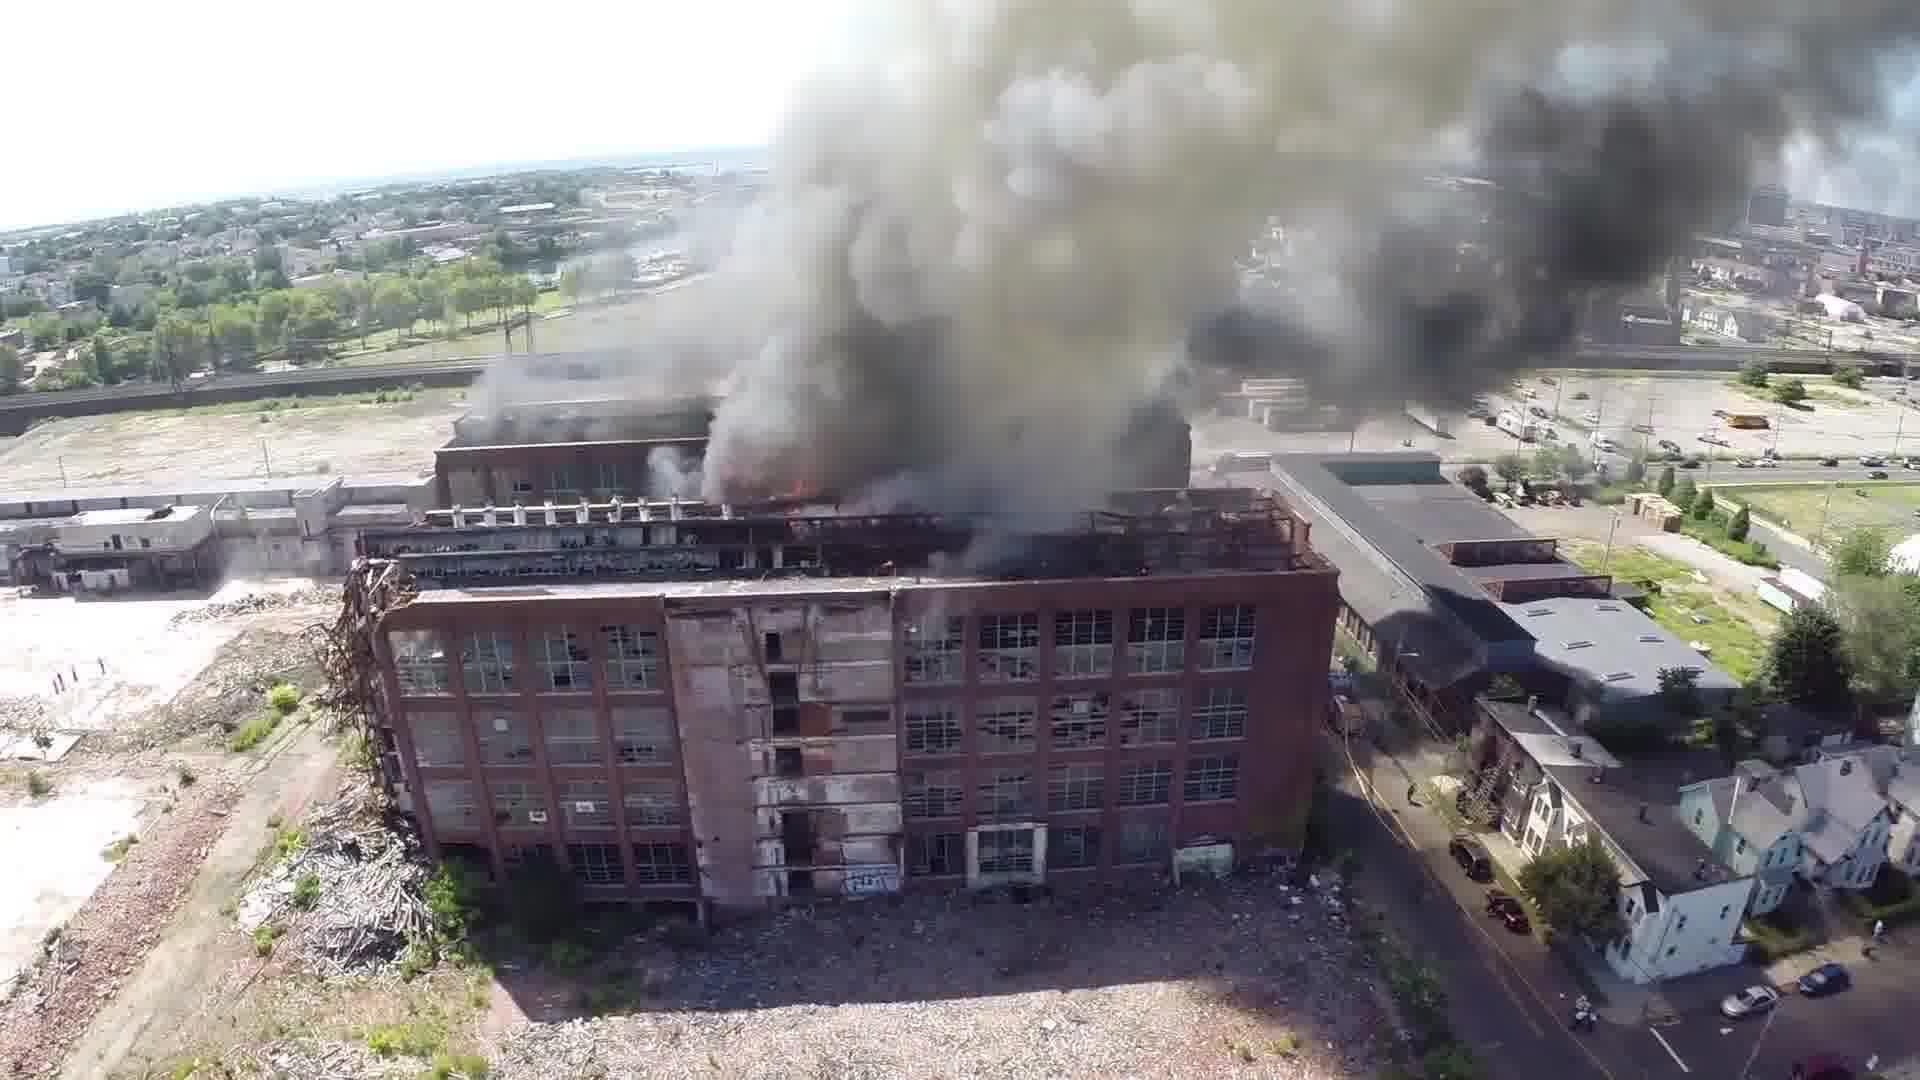smoke: (796, 102, 1187, 491), (1211, 92, 1592, 326), (1010, 15, 1891, 95)
